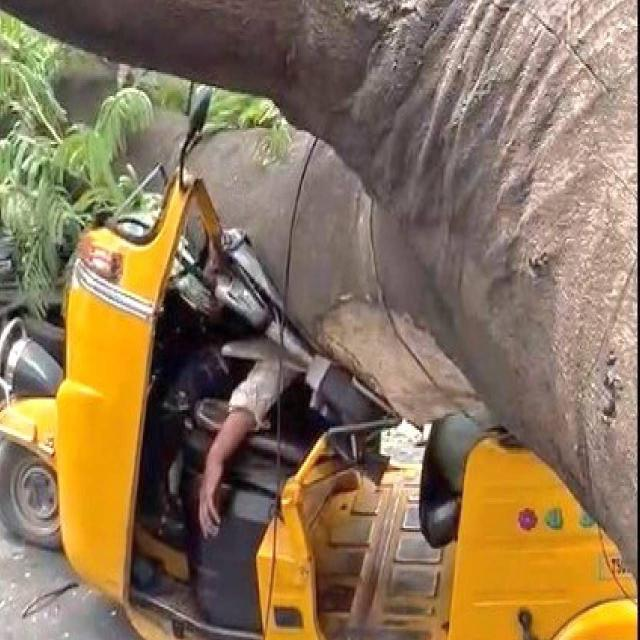accident: (0, 90, 636, 638)
